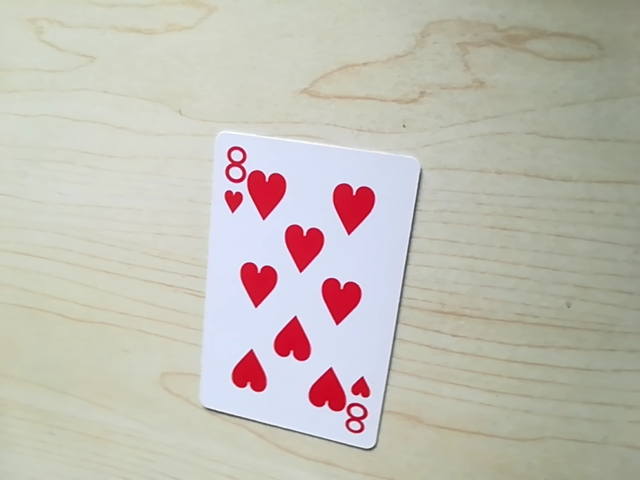hx 8: (344, 372, 379, 446), (219, 137, 249, 218)
